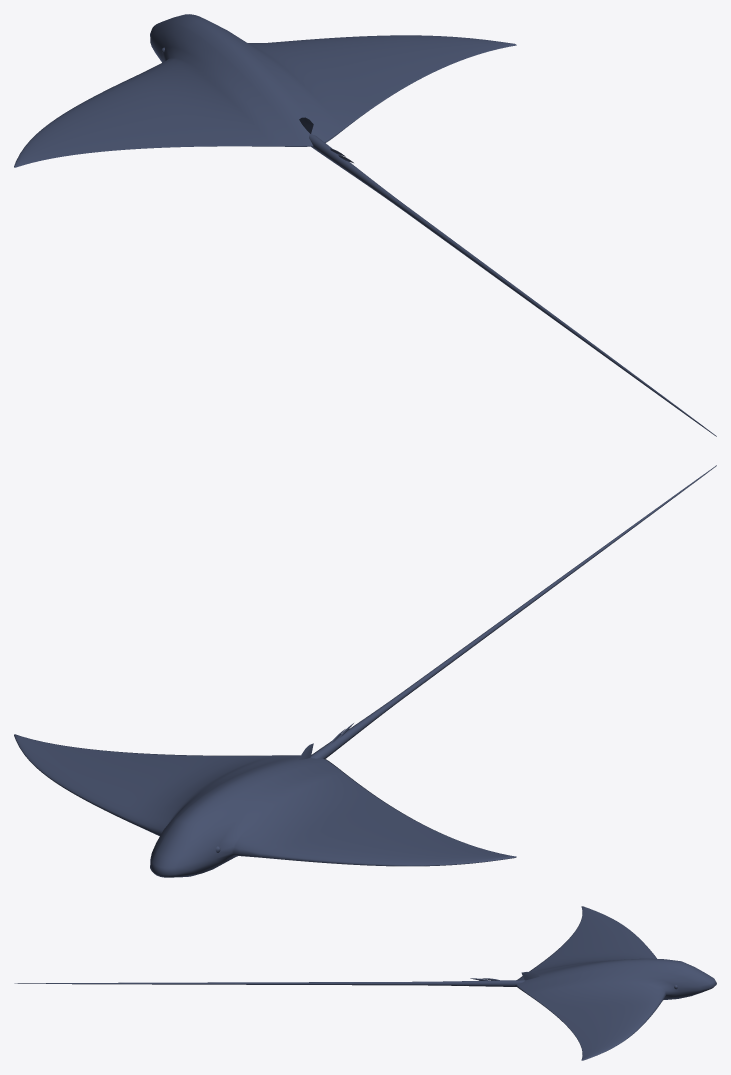
The model's file is spotted_eagle_ray_game.glb.
The picture shows the model from 3 angles, top to bottom: view 1: azimuth 30°, elevation 25°; view 2: azimuth 150°, elevation 25°; view 3: azimuth 270°, elevation 25°; orthographic projection. The views are drawn at different scales.
Visible parts, largest first — view 1: spotted_eagle_ray_game; view 2: spotted_eagle_ray_game; view 3: spotted_eagle_ray_game.
Boxes of the visible parts, left/top/right/bottom form: spotted_eagle_ray_game: left=14, top=14, right=716, bottom=436; spotted_eagle_ray_game: left=14, top=465, right=716, bottom=877; spotted_eagle_ray_game: left=14, top=906, right=716, bottom=1060.
Bounding box in the file's own units: 2 × 0.2298 × 3.85.
